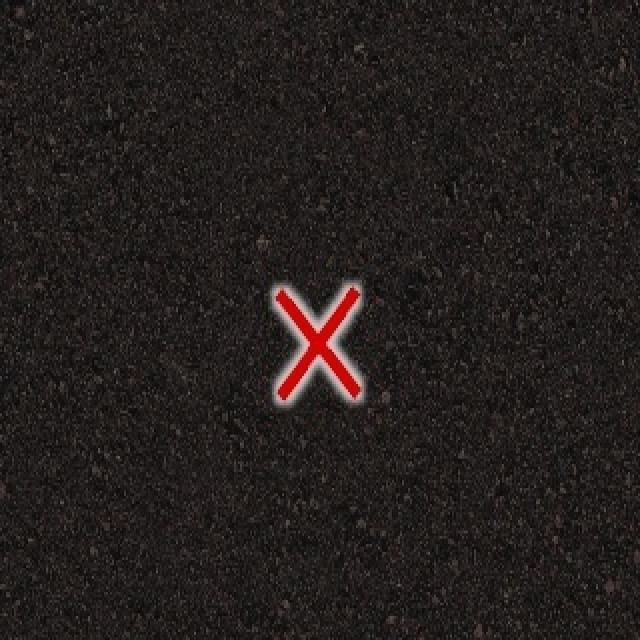x_marker: (275, 286, 359, 398)
